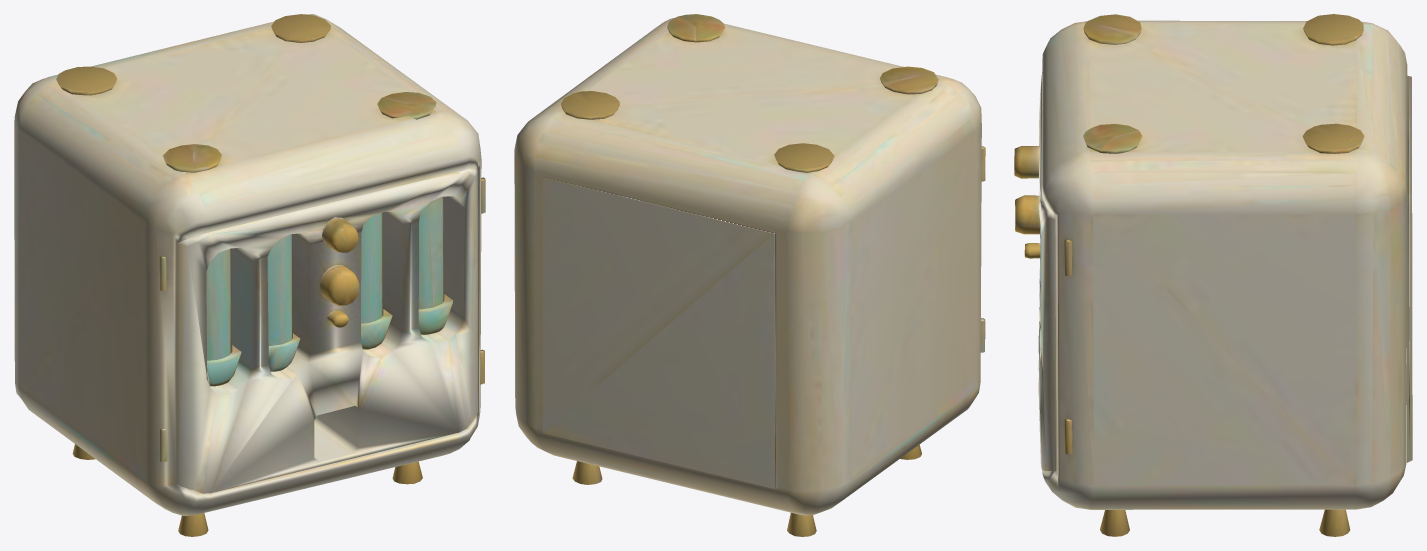
Rendered from battery.glb.
3 renders of one model, left to right at view 1: azimuth 30°, elevation 25°; view 2: azimuth 150°, elevation 25°; view 3: azimuth 270°, elevation 25°, orthographic. The views are drawn at different scales.
Visible parts, largest first — view 1: battery; view 2: battery; view 3: battery.
Part boxes in pixels (x1,y1,x2,y2): battery: [14, 14, 485, 536]; battery: [514, 14, 985, 536]; battery: [1014, 14, 1412, 536].
Bounding box in the file's own units: 0.8 × 0.865 × 0.7958.
Materials: 1 (1 with a texture image).
